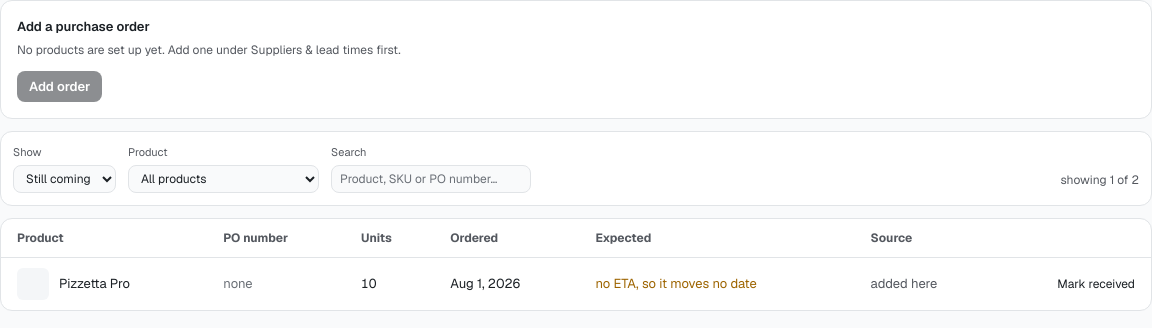
Test case: PurchaseOrdersClient filtering › shows only what has arrived when asked for received
Select "Received" in the dropdown labelled "Show" at (64, 178), box [13,164,116,192]
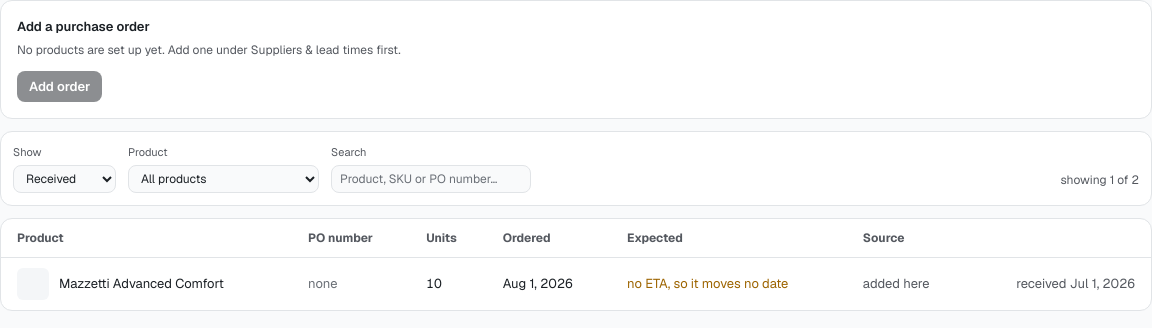
Expected: the text "Mazzetti Advanced Comfort" is shown, [59,274,224,293]
Expected: the text "Pizzetta Pro" is gone
